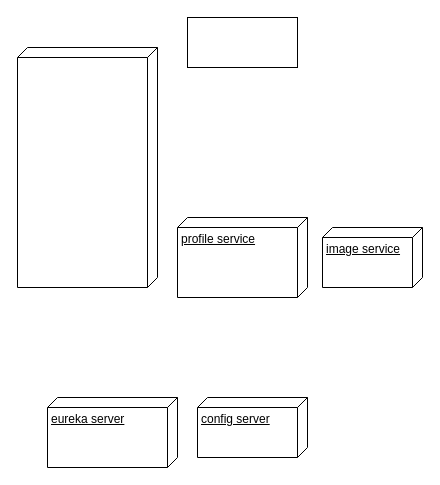
Some shapes in this 440 by 485 pixel diagram are drawn without their labels. Each missing label, with the centre of its shape:
"api gateway" belongs at point (87, 167).
"message service" belongs at point (242, 42).
